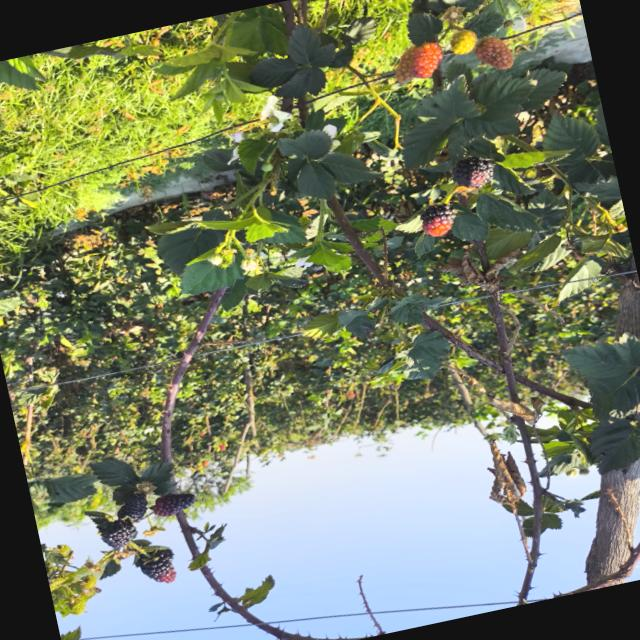maduro: (100, 519, 136, 548), (150, 493, 195, 516), (117, 492, 147, 521)
marron: (134, 548, 176, 582), (451, 157, 493, 188), (420, 203, 455, 236)
naranja: (474, 37, 513, 69), (411, 42, 442, 77), (394, 46, 417, 82)
verde: (450, 29, 477, 54)
